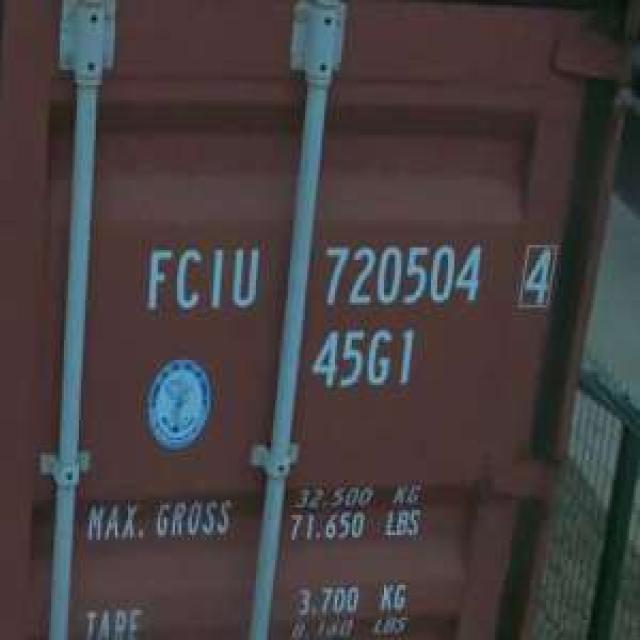dv: (512, 235, 559, 313)
owner: (134, 235, 264, 323)
serial: (314, 235, 486, 313)
size: (307, 320, 418, 398)
